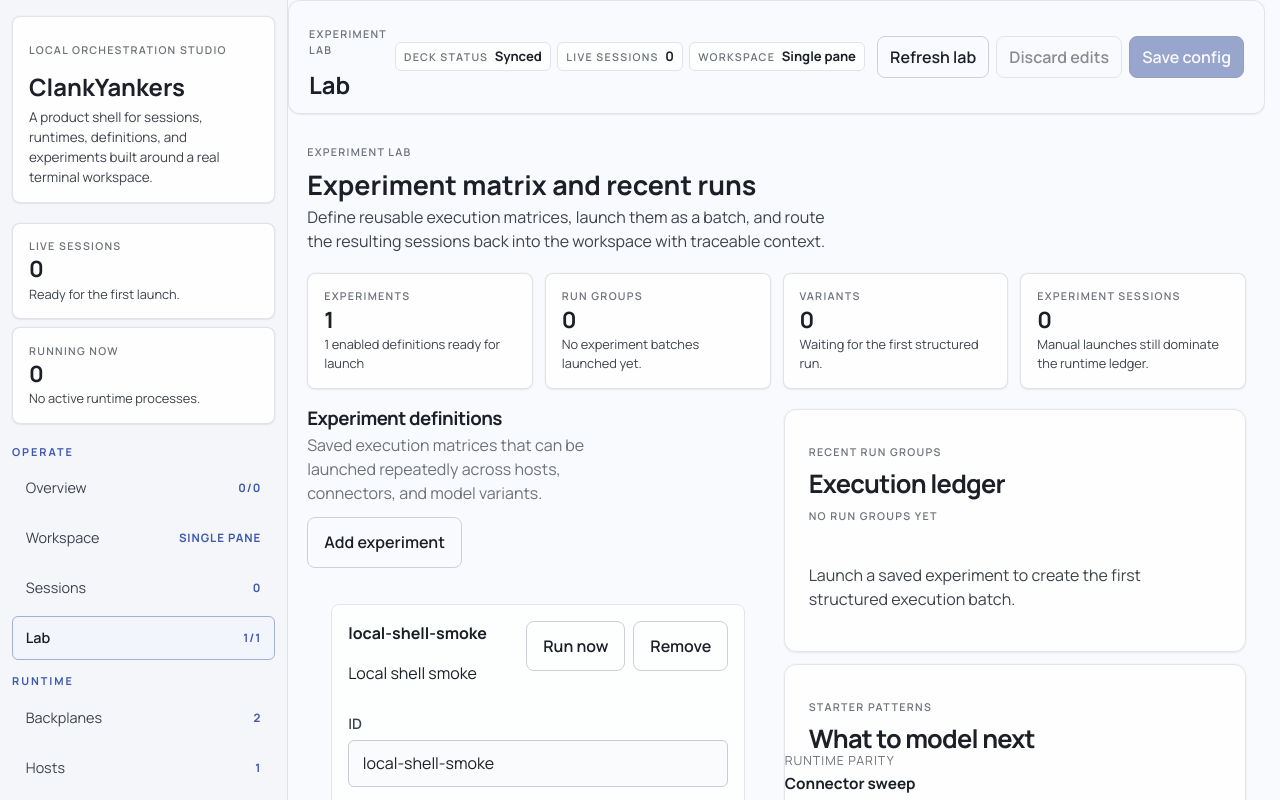
Test: App › launches an experiment from the lab surface
Check: the heading "Experiment matrix and recent runs" is shown, box top-left (307, 166), bottom-right (756, 204)
Click the button with test id "run-experiment-local-shell-smoke" at (576, 646), box top-left (526, 620), bottom-right (625, 671)
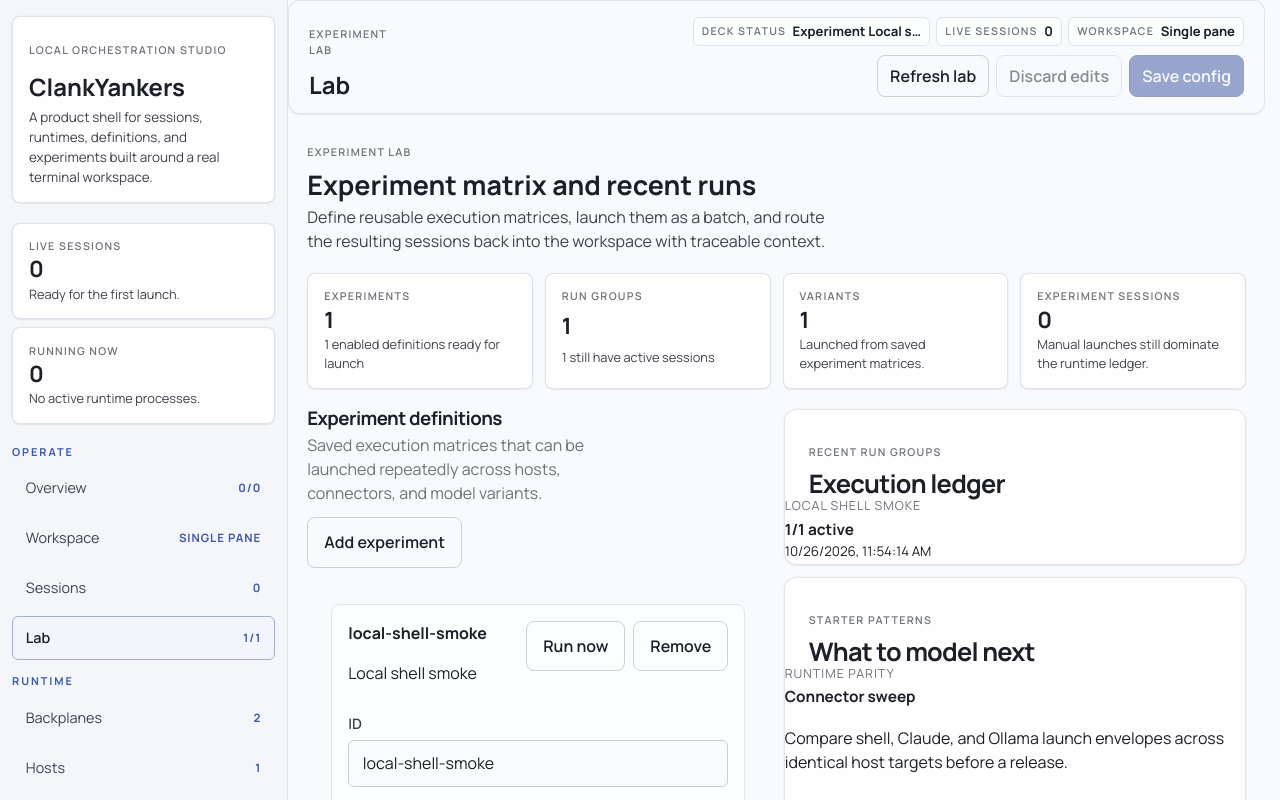
Check: the text "1/1 active" is shown, box top-left (785, 518), bottom-right (854, 540)
